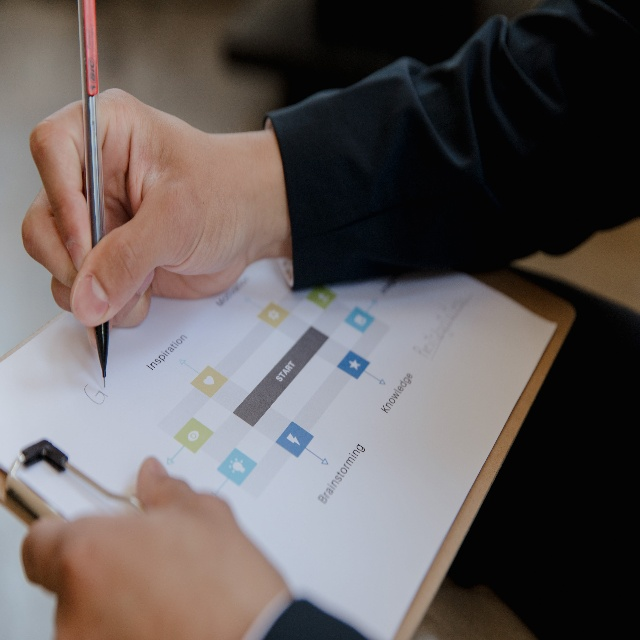Sin_guantes: (20, 87, 250, 355), (21, 456, 295, 640)
